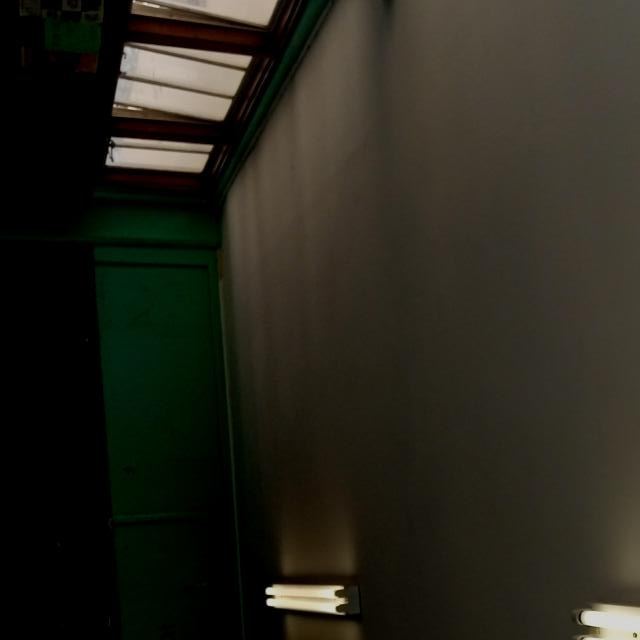fluorescent tube: (237, 566, 378, 632), (549, 584, 640, 640)
